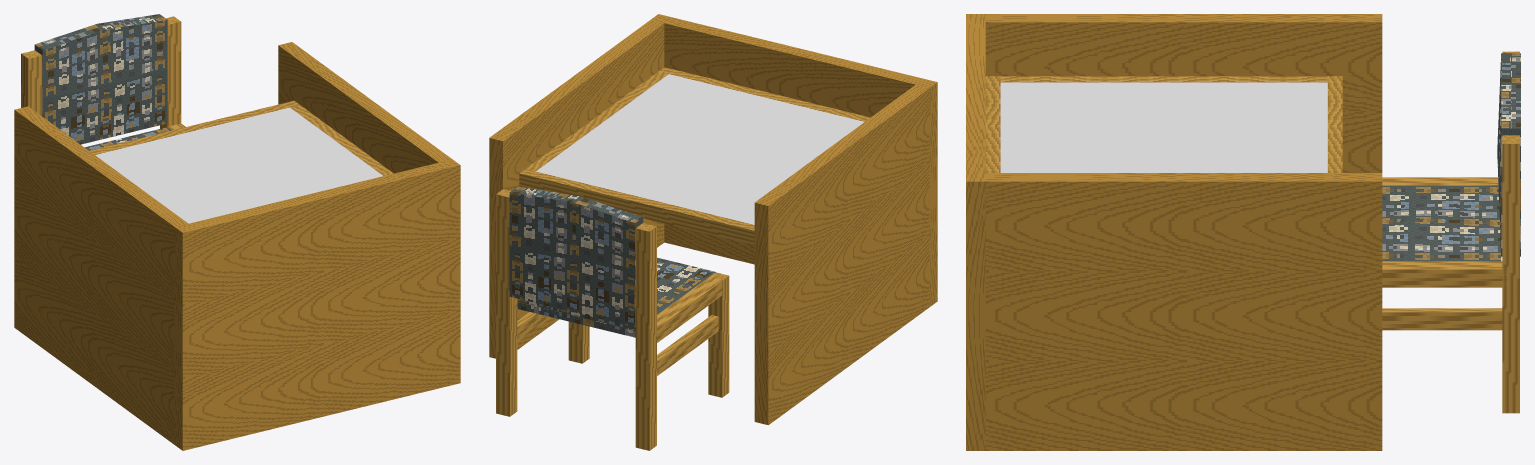
File: DesknChair.fbx
The picture shows the model from 3 angles, left to right: view 1: azimuth 30°, elevation 25°; view 2: azimuth 150°, elevation 25°; view 3: azimuth 270°, elevation 25°; orthographic projection. The views are drawn at different scales.
Visible parts, largest first — view 1: Cube.006, Cube.008, Cube.004, Cube.003, Cube.007, Cube.002, Cube.001; view 2: Cube.008, Cube.004, Cube.006, Cube.003, Cube.007, Cube.001, Cube.002, Cube; view 3: Cube.007, Cube.004, Cube.008, Cube.002, Cube, Cube.006, Cube.003, Cube.001.
Boxes of the visible parts, <box> form: Cube.006: <box>174,159,460,450</box>; Cube.008: <box>14,106,187,444</box>; Cube.004: <box>89,100,393,223</box>; Cube.003: <box>34,14,167,144</box>; Cube.007: <box>278,42,451,173</box>; Cube.002: <box>160,16,185,130</box>; Cube.001: <box>21,50,42,115</box>; Cube.008: <box>754,84,929,425</box>; Cube.004: <box>519,67,870,245</box>; Cube.006: <box>651,14,937,306</box>; Cube.003: <box>509,186,643,326</box>; Cube.007: <box>489,20,664,358</box>; Cube.001: <box>635,223,729,450</box>; Cube.002: <box>496,189,589,416</box>; Cube: <box>517,257,715,337</box>; Cube.007: <box>985,173,1382,450</box>; Cube.004: <box>985,76,1342,172</box>; Cube.008: <box>985,14,1382,172</box>; Cube.002: <box>1382,135,1519,413</box>; Cube: <box>1382,185,1501,261</box>; Cube.006: <box>966,14,985,450</box>; Cube.003: <box>1497,53,1520,256</box>; Cube.001: <box>1382,51,1519,185</box>.
Bounding box in the file's own units: 400 × 315 × 560.
